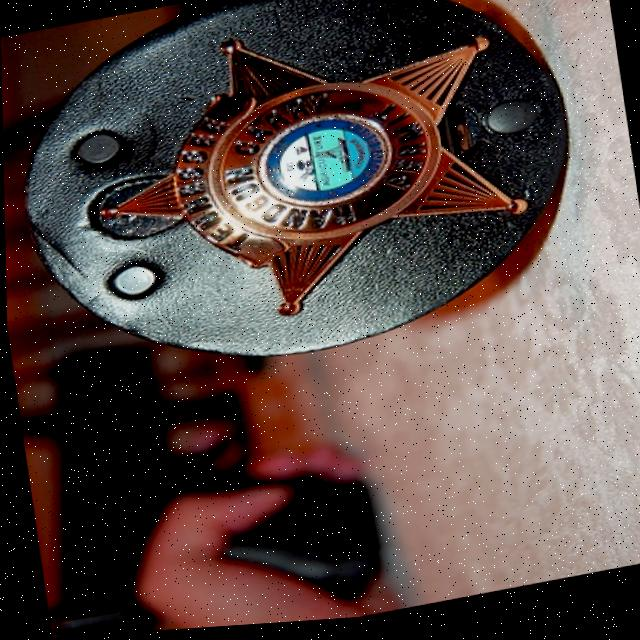pistol: (9, 320, 281, 640)
